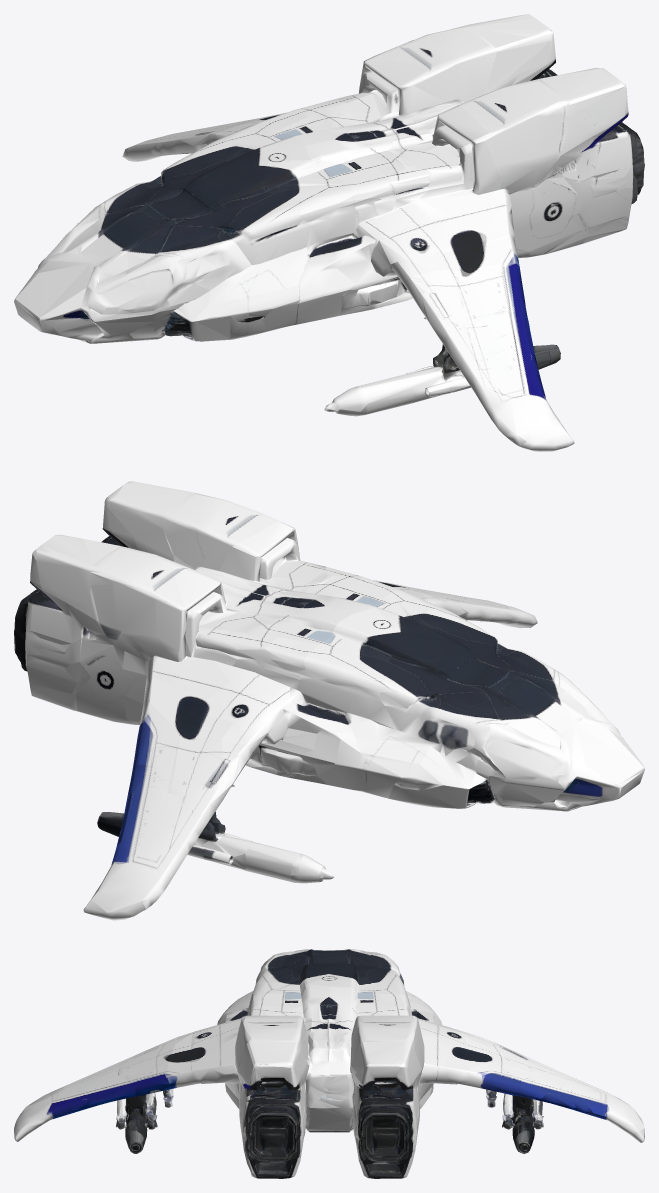
Rendered from petrel-bomber.glb.
The picture shows the model from 3 angles, top to bottom: view 1: azimuth 30°, elevation 25°; view 2: azimuth 150°, elevation 25°; view 3: azimuth 270°, elevation 25°; orthographic projection. The views are drawn at different scales.
Visible parts, largest first — view 1: Hull; view 2: Hull; view 3: Hull.
Boxes of the visible parts, x1,y1,x2,y2 form: Hull: [14, 14, 644, 452]; Hull: [14, 481, 644, 920]; Hull: [14, 949, 644, 1178].
Size of the model in its own units: 1.62 by 0.552 by 2.
1 material, 1 textured.
